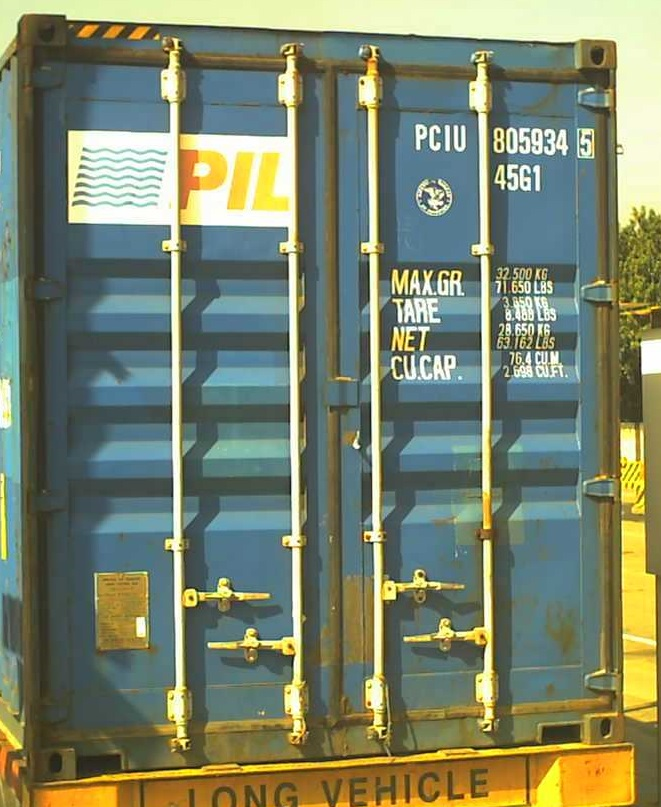container_door: (21, 10, 625, 781)
